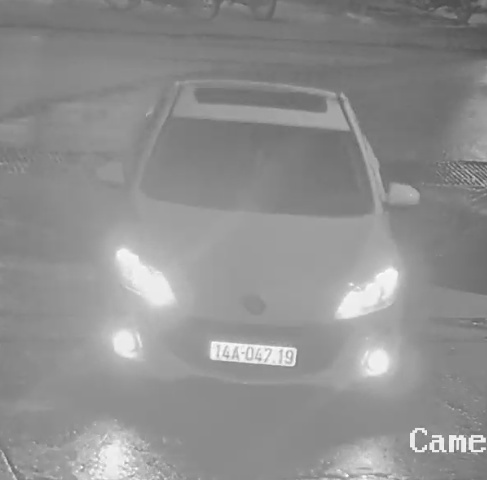vehicle plate: (207, 337, 304, 371)
